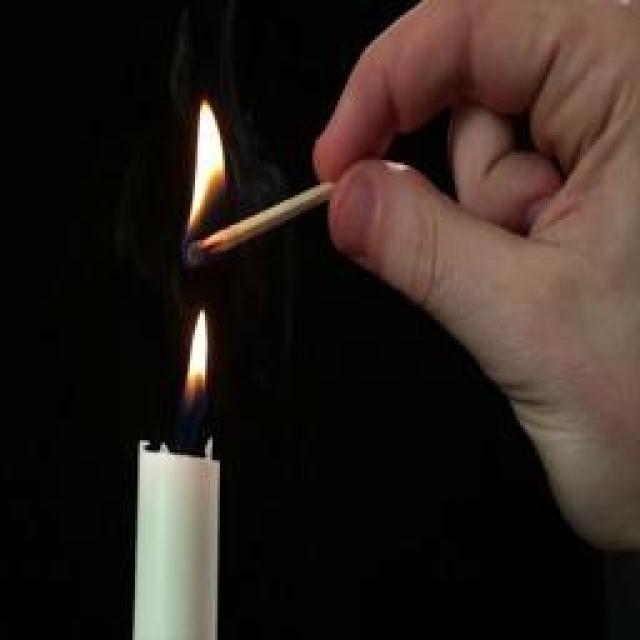Fire: (188, 102, 230, 235), (186, 310, 209, 408)
